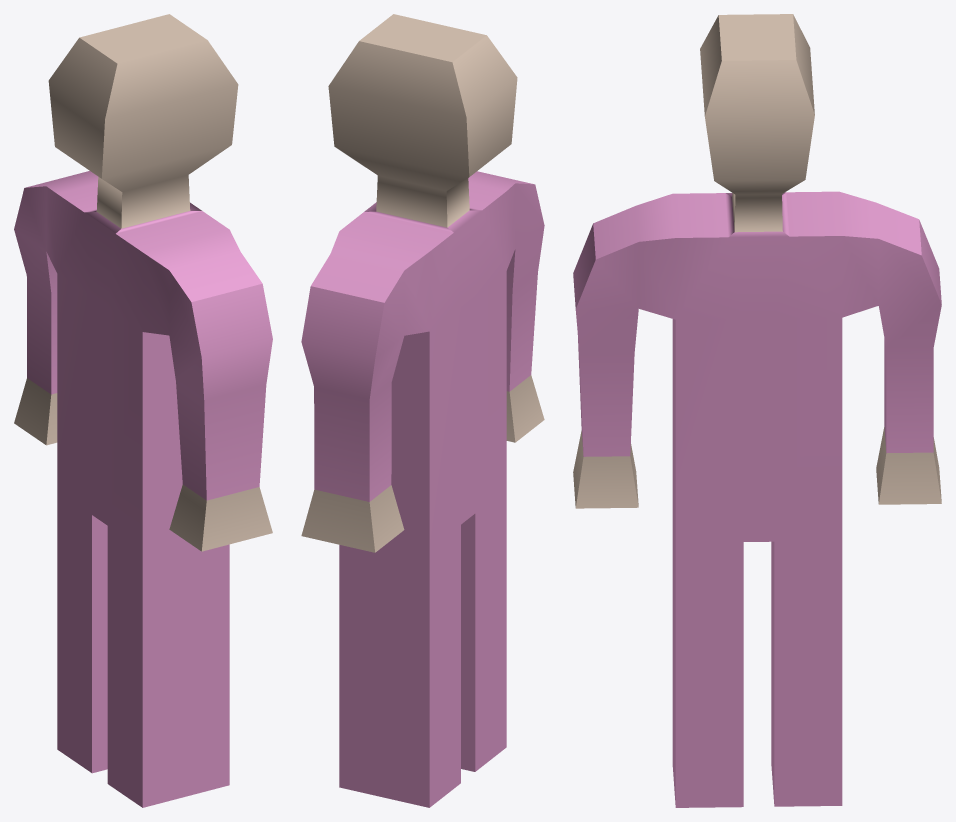
File: Person.fbx
3 views of the same model, side by side, from view 1: azimuth 30°, elevation 25°; view 2: azimuth 150°, elevation 25°; view 3: azimuth 270°, elevation 25° (orthographic). The views are drawn at different scales.
Parts seen in each view (by area): view 1: person; view 2: person; view 3: person.
Part boxes in pixels (x1=…): person: x1=14, y1=14, x2=272, y2=807; person: x1=301, y1=14, x2=544, y2=807; person: x1=573, y1=14, x2=941, y2=807.
Size of the model in its own units: 0.00311 by 0.0156 by 0.00698.
